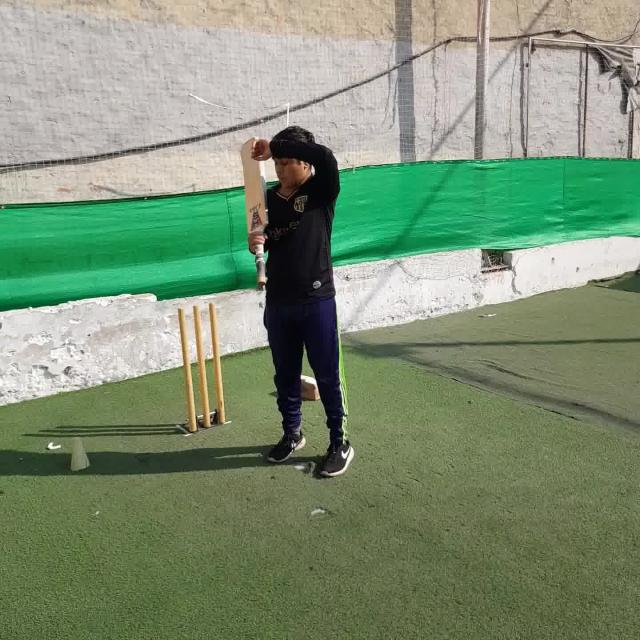bat: (237, 136, 266, 292)
